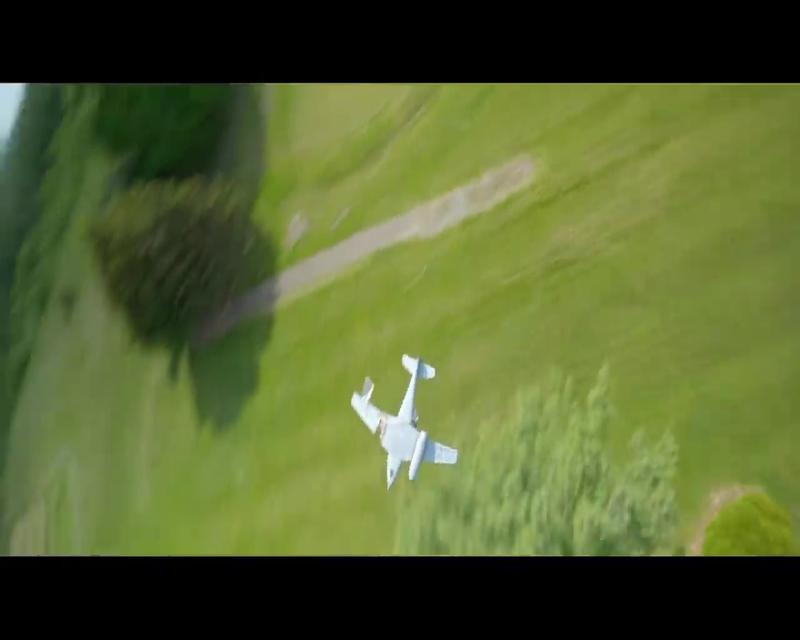UAV: (349, 354, 455, 489)
